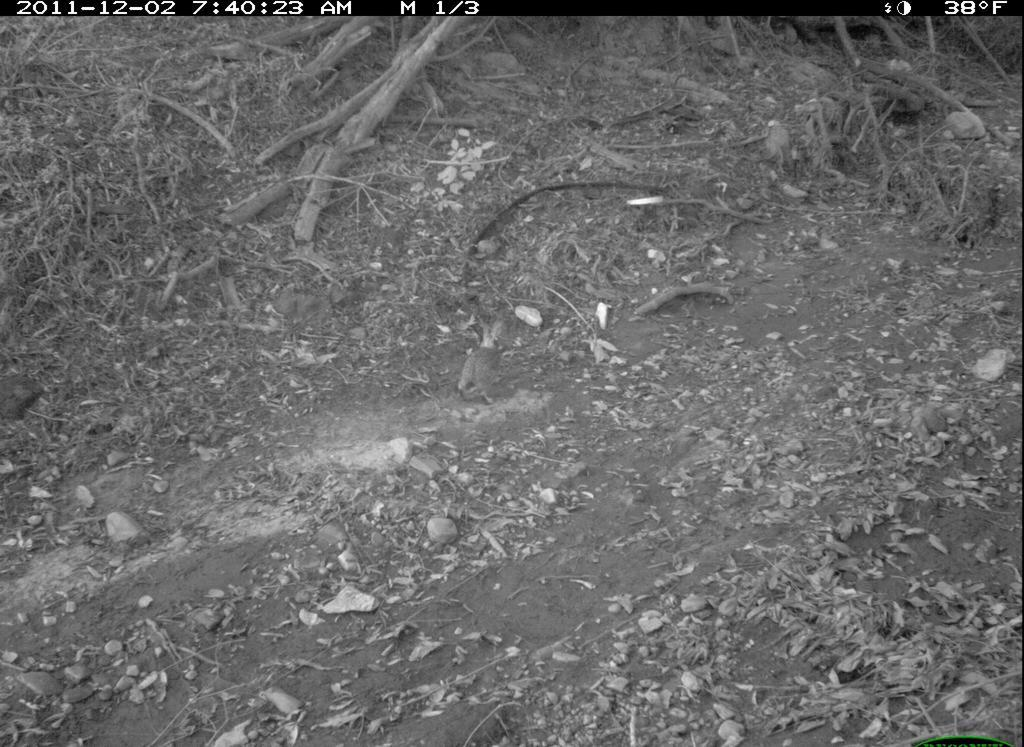rabbit: (454, 309, 511, 411)
